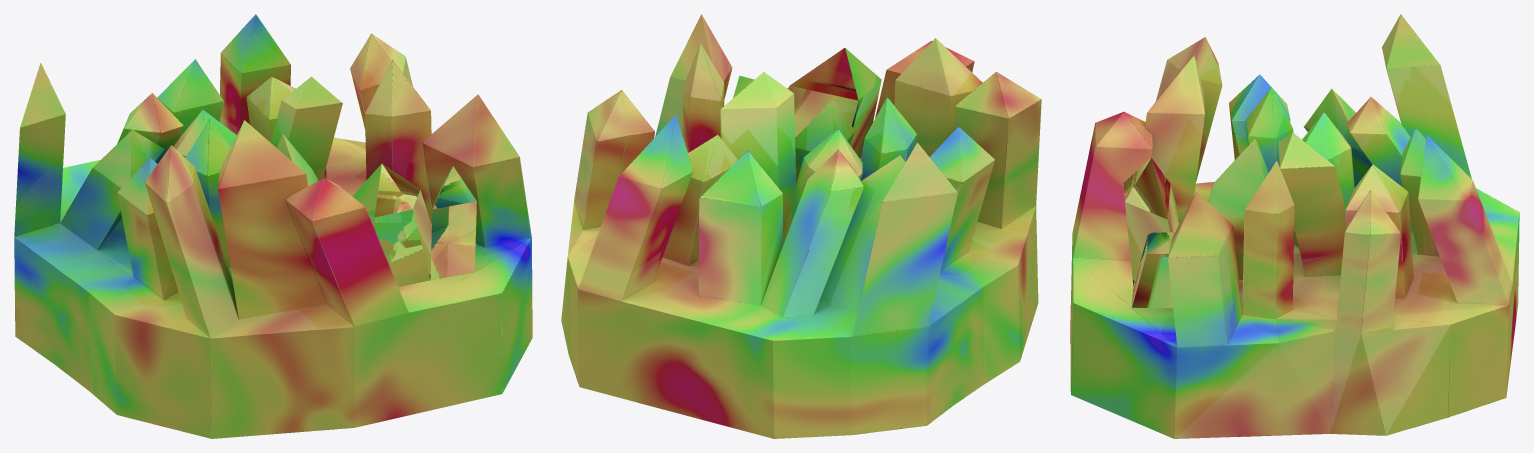
Rendered from crystal.glb.
3 renders of one model, left to right at view 1: azimuth 30°, elevation 25°; view 2: azimuth 150°, elevation 25°; view 3: azimuth 270°, elevation 25°, orthographic. The views are drawn at different scales.
Visible parts, largest first — view 1: Plane; view 2: Plane; view 3: Plane.
Boxes of the visible parts, <box> form: Plane: <box>14,14,532,438</box>; Plane: <box>561,14,1041,438</box>; Plane: <box>1070,14,1519,438</box>.
Bounding box in the file's own units: 1.97 × 1.34 × 2.05.
1 material, 1 textured.
